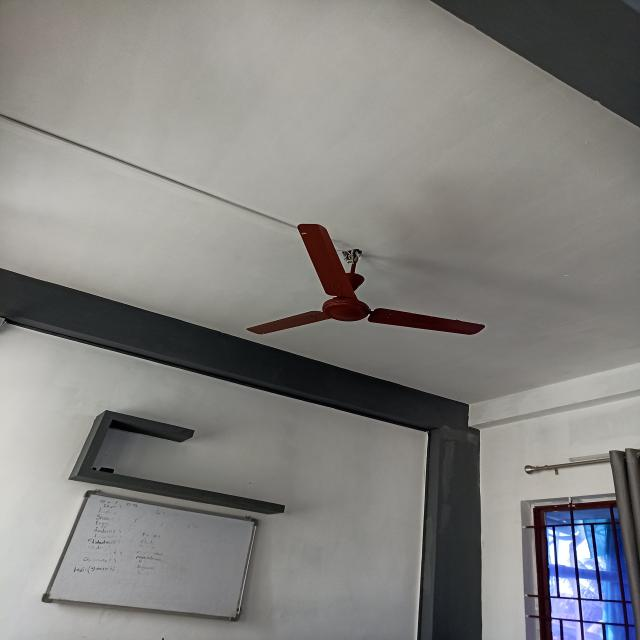fan: (245, 222, 485, 336)
